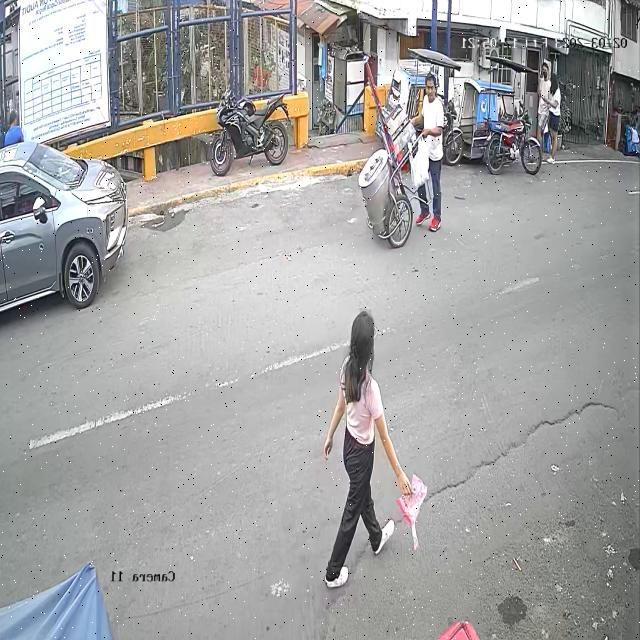human: (324, 310, 428, 589)
trash: (392, 466, 425, 553)
